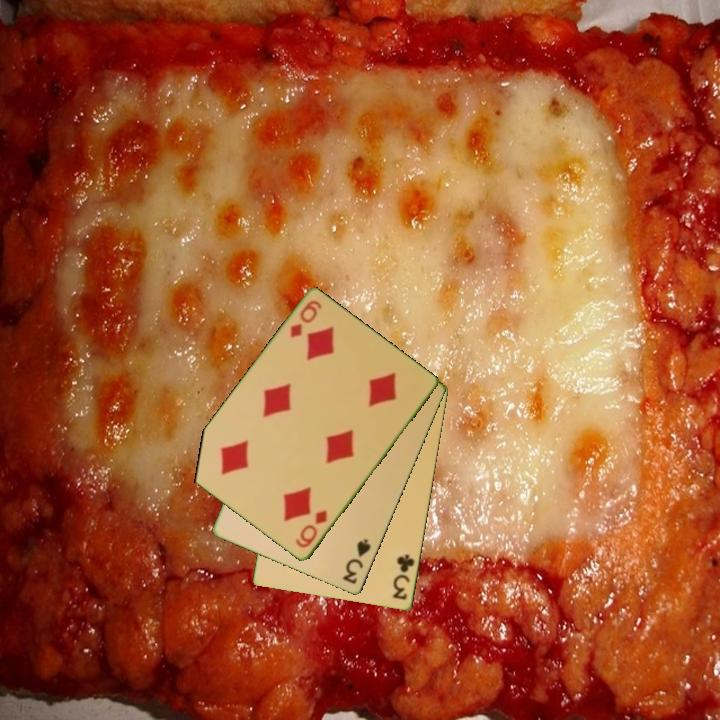3c: (389, 551, 418, 603)
3s: (339, 536, 374, 587)
6d: (286, 297, 325, 341), (292, 507, 330, 551)
